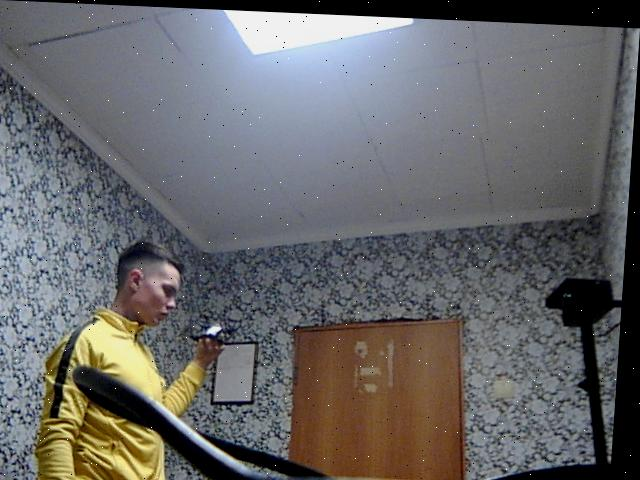drone: (183, 304, 250, 351)
